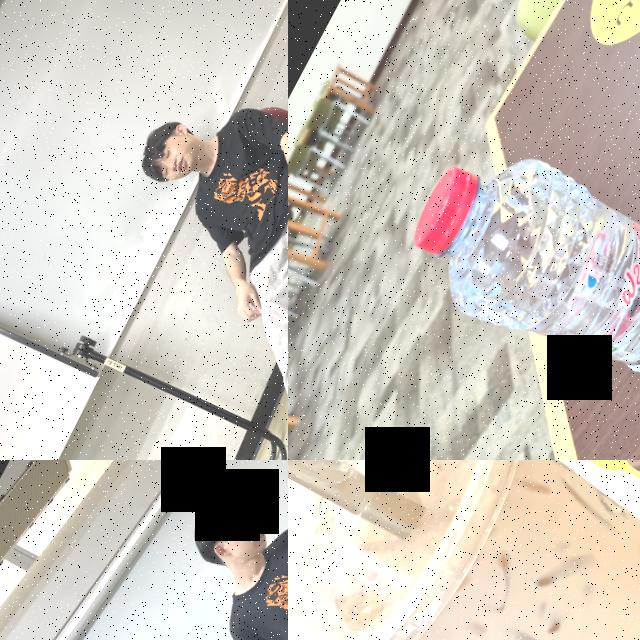bottle: (392, 120, 640, 423)
cup: (288, 460, 640, 640)
